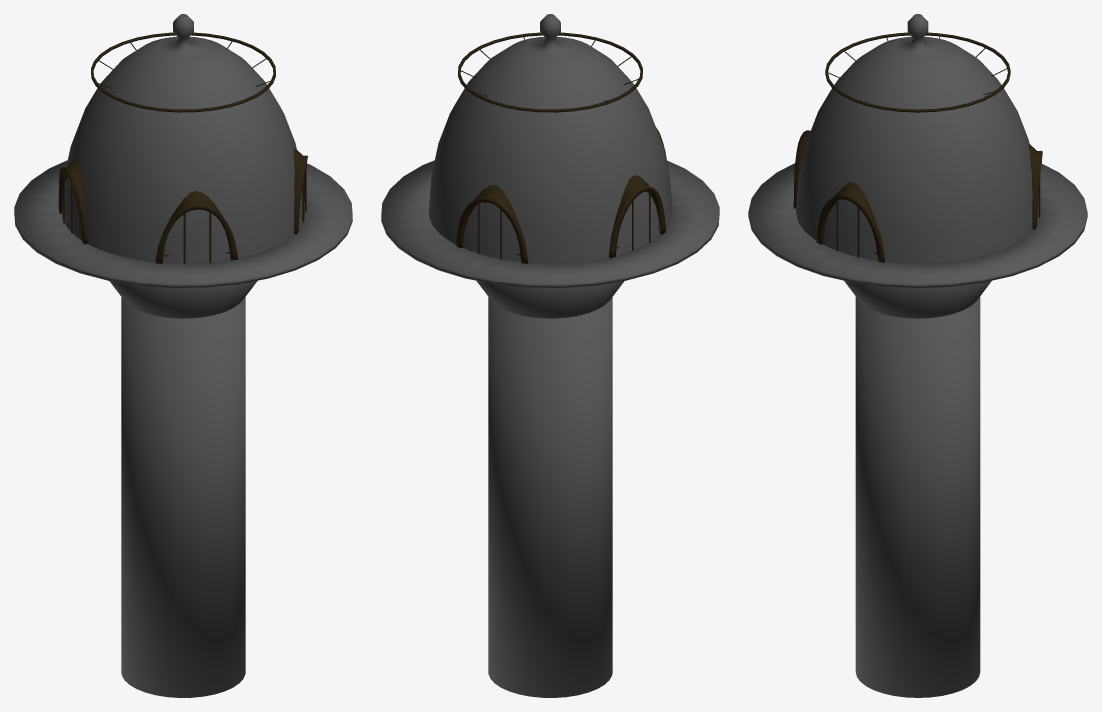
The model's file is Tower2.fbx.
3 views of the same model, side by side, from view 1: azimuth 30°, elevation 25°; view 2: azimuth 150°, elevation 25°; view 3: azimuth 270°, elevation 25° (orthographic).
Parts seen in each view (by area): view 1: Cylinder.003, Sphere.004, Circle, Circle.001, Cylinder.005, Circle.002; view 2: Cylinder.003, Sphere.004, Circle, Cylinder.005, Circle.001, Circle.002; view 3: Cylinder.003, Sphere.004, Circle, Cylinder.005, Circle.001, Circle.002.
Boxes of the visible parts, left/top/right/bottom form: Cylinder.003: left=121, top=297, right=245, bottom=697; Sphere.004: left=62, top=14, right=305, bottom=263; Circle: left=14, top=160, right=352, bottom=287; Circle.001: left=58, top=148, right=307, bottom=264; Cylinder.005: left=109, top=280, right=257, bottom=318; Circle.002: left=91, top=32, right=275, bottom=112; Cylinder.003: left=488, top=297, right=612, bottom=697; Sphere.004: left=428, top=14, right=672, bottom=263; Circle: left=381, top=160, right=719, bottom=287; Cylinder.005: left=476, top=280, right=624, bottom=318; Circle.001: left=455, top=127, right=667, bottom=263; Circle.002: left=458, top=32, right=642, bottom=112; Cylinder.003: left=855, top=296, right=980, bottom=697; Sphere.004: left=796, top=14, right=1038, bottom=263; Circle: left=748, top=163, right=1087, bottom=287; Cylinder.005: left=844, top=280, right=991, bottom=318; Circle.001: left=793, top=130, right=1042, bottom=262; Circle.002: left=825, top=32, right=1010, bottom=112.
Size of the model in its own units: 3662 by 7811 by 3662.
